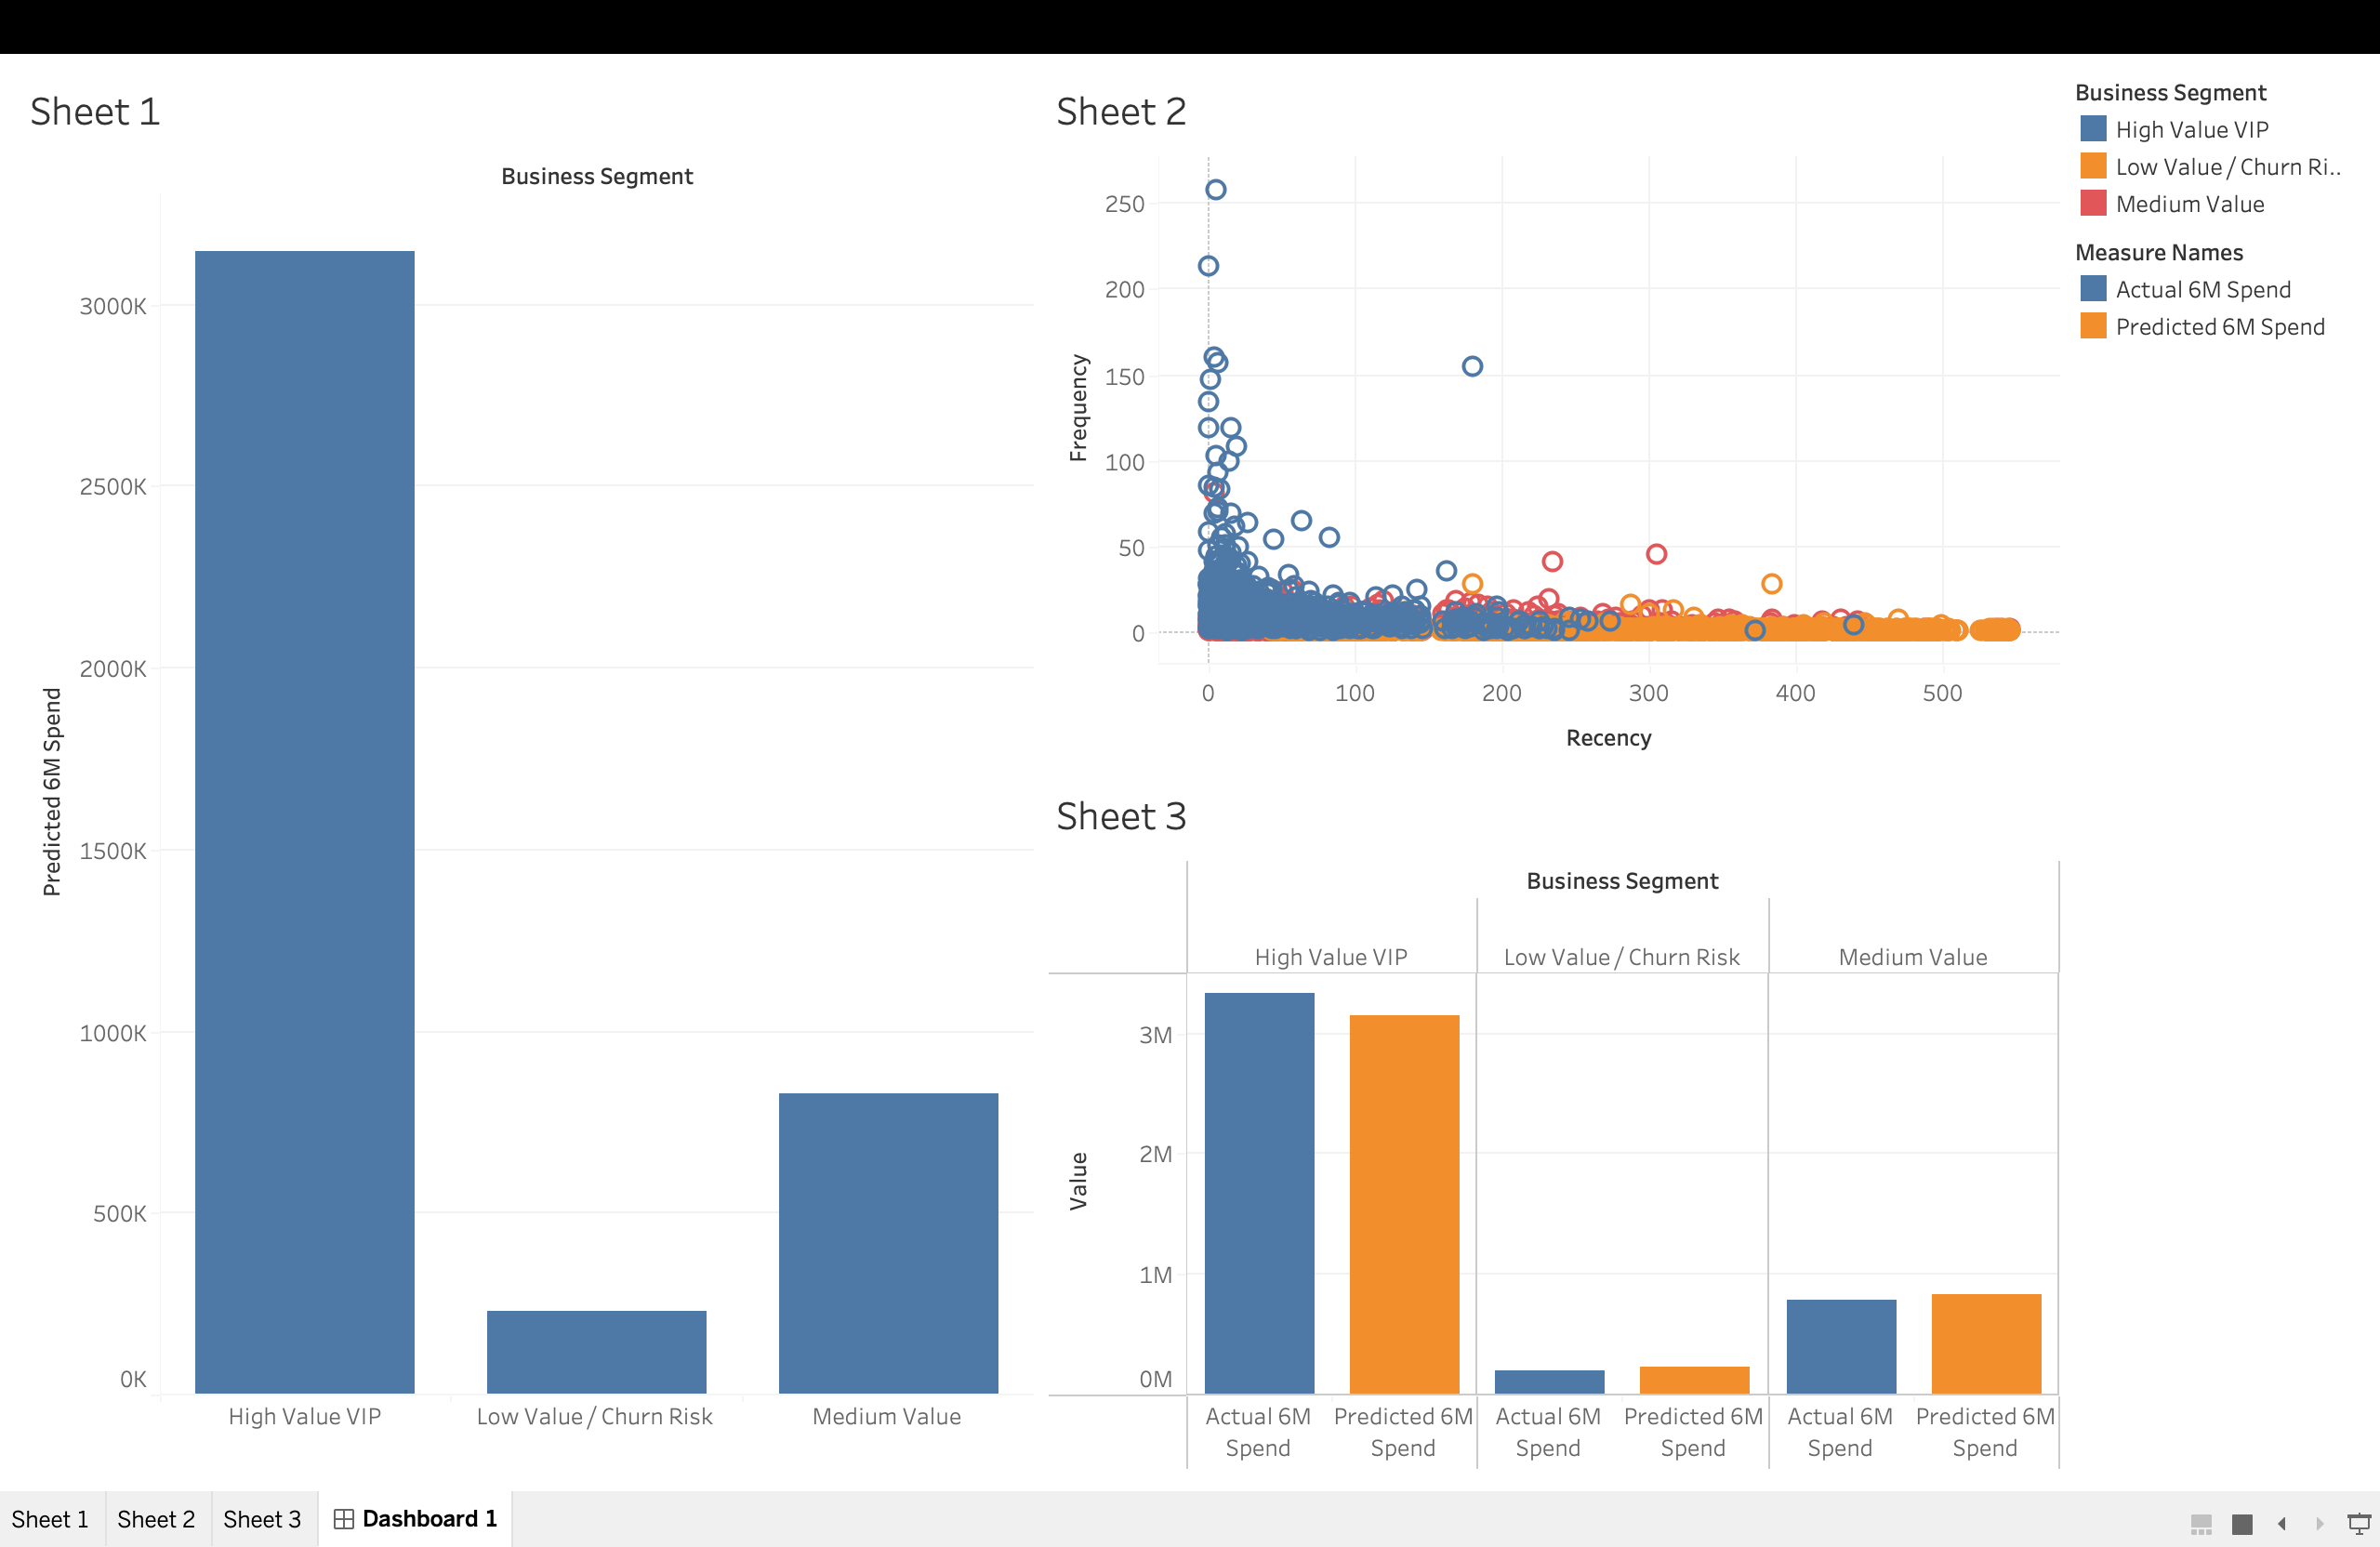

The dashboard page shown, as its layout file describes it:
{"tool":"tableau","page":{"name":"Dashboard 1","canvas":[1000,1000],"units":"permille","ordinal":0},"visuals":[{"type":"worksheet","title":"Sheet 1","mark":"Automatic","rows":["predicted_6m_spend"],"cols":["business_segment"],"box":[6.2,10.3,431.2,979.3]},{"type":"worksheet","title":"Sheet 2","mark":"Automatic","rows":["frequency"],"cols":["recency"],"box":[437.5,10.3,431.2,489.7]},{"type":"legend","title":"Sheet 2","param":"[federated.0sj2grb0e71a331esvvc00yh3i96].[none:business_segment:nk]","box":[868.8,10.3,125,111.3]},{"type":"legend","title":"Sheet 3","param":"[federated.0sj2grb0e71a331esvvc00yh3i96].[:Measure Names]","box":[868.8,121.6,125,85.4]},{"type":"worksheet","title":"Sheet 3","mark":"Automatic","cols":["business_segment"],"box":[437.5,500,431.2,489.7]}]}

Visuals, with their boxes on the dashboard's canvas, which has no fixed pixel size, in thousandths of its width and height (x1, y1, x2, y2). These are canvas units, not pixel positions in the 2380x1547 screenshot, which may show the page scaled, cropped or inside an application window:
"Sheet 1" worksheet: bbox(6, 10, 437, 990)
"Sheet 2" worksheet: bbox(438, 10, 869, 500)
"Sheet 2" legend: bbox(869, 10, 994, 122)
"Sheet 3" legend: bbox(869, 122, 994, 207)
"Sheet 3" worksheet: bbox(438, 500, 869, 990)
